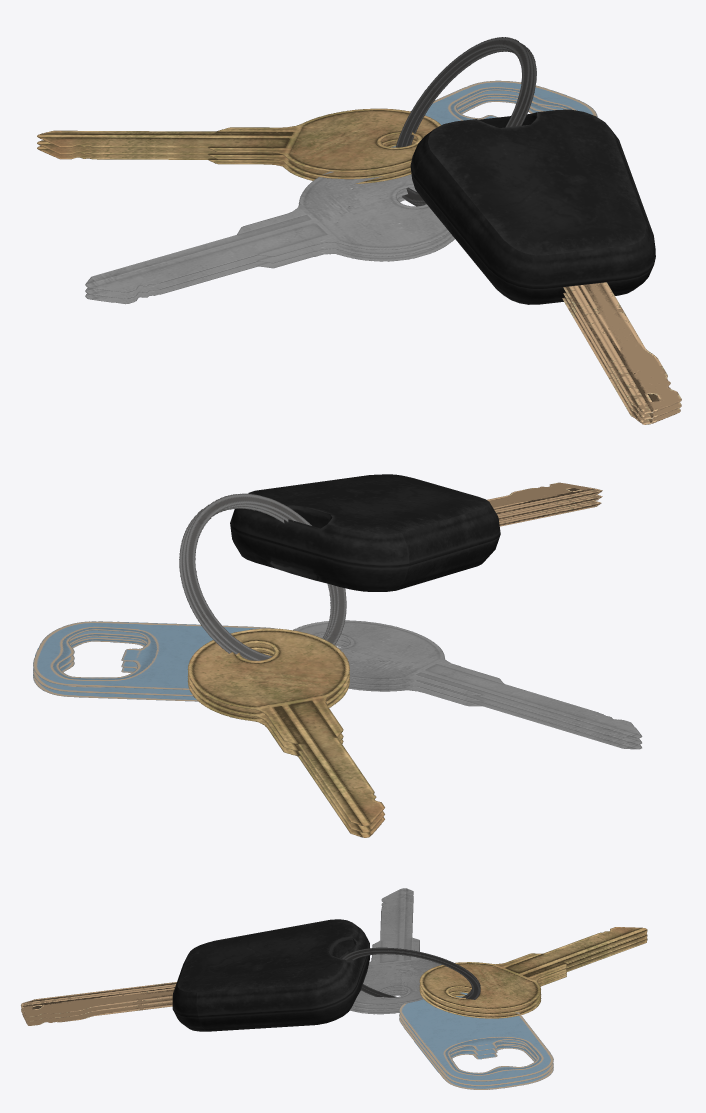
File: SM_Keys.fbx
3 renders of one model, top to bottom at view 1: azimuth 30°, elevation 25°; view 2: azimuth 150°, elevation 25°; view 3: azimuth 270°, elevation 25°, orthographic. The views are drawn at different scales.
Parts seen in each view (by area): view 1: SM_Keys_LOD0; view 2: SM_Keys_LOD0; view 3: SM_Keys_LOD0.
Part boxes in pixels (x1,y1,x2,y2): SM_Keys_LOD0: (37, 37, 681, 424); SM_Keys_LOD0: (33, 474, 642, 837); SM_Keys_LOD0: (21, 888, 647, 1089).
Bounding box in the file's own units: 25.97 × 35.62 × 7.48.
Materials: 1 (1 with a texture image).
